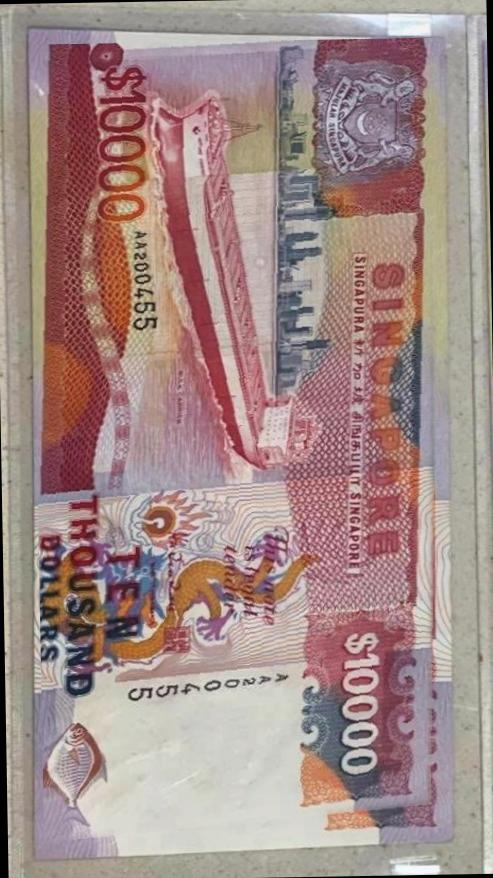10000SingaporeDollar: (30, 39, 454, 846)
